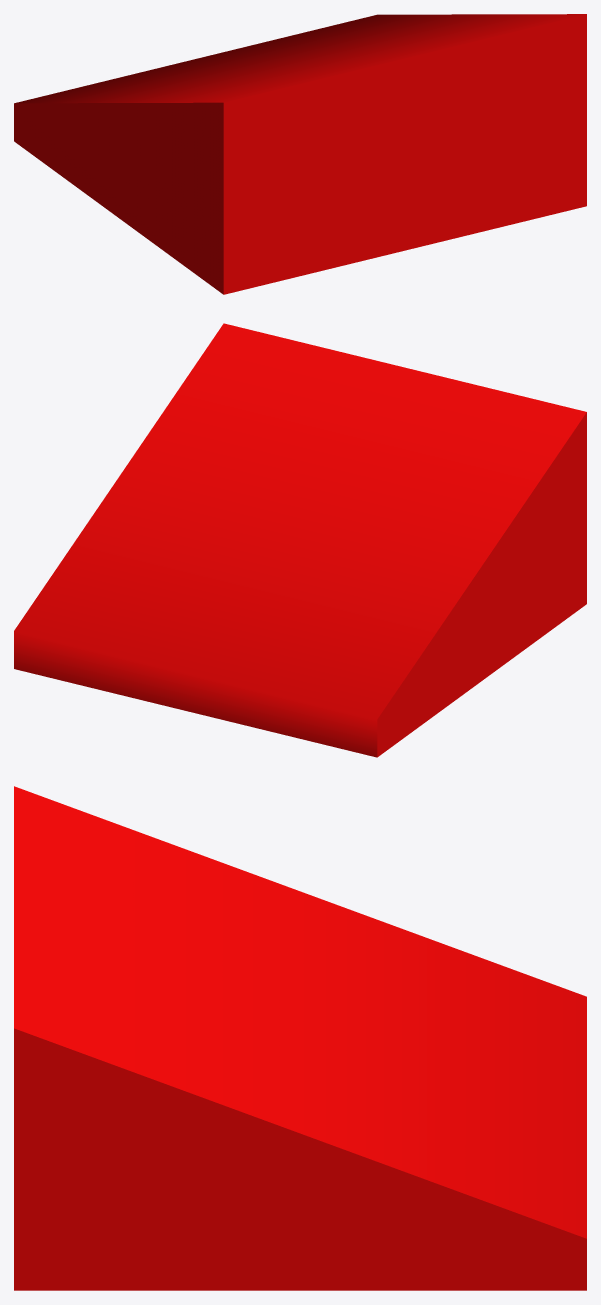
File: modular_ramp_1.FBX
3 views of the same model, one above another, from view 1: azimuth 30°, elevation 25°; view 2: azimuth 150°, elevation 25°; view 3: azimuth 270°, elevation 25° (orthographic). The views are drawn at different scales.
Visible parts, largest first — view 1: Ramp; view 2: Ramp; view 3: Ramp.
Part boxes in pixels (<box>): Ramp: <box>14,14,586,294</box>; Ramp: <box>14,323,586,757</box>; Ramp: <box>14,786,586,1290</box>.
Bounding box in the file's own units: 100 × 50.54 × 100.
